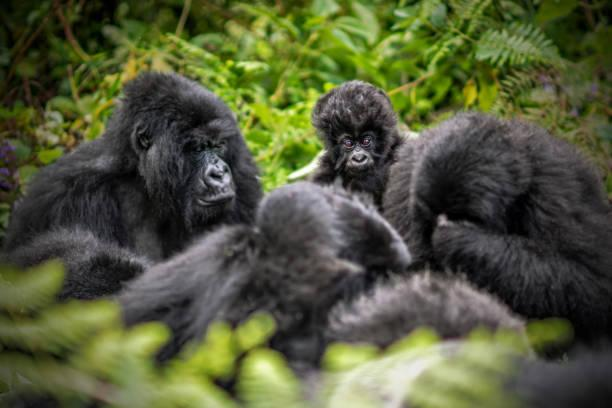goriile_montagne: (26, 58, 257, 252), (302, 81, 415, 194)
